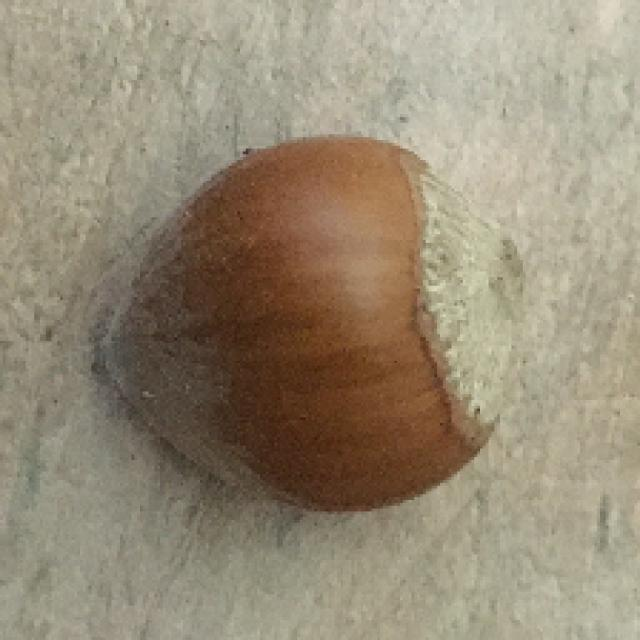qualityHazelnut: (97, 134, 528, 518)
